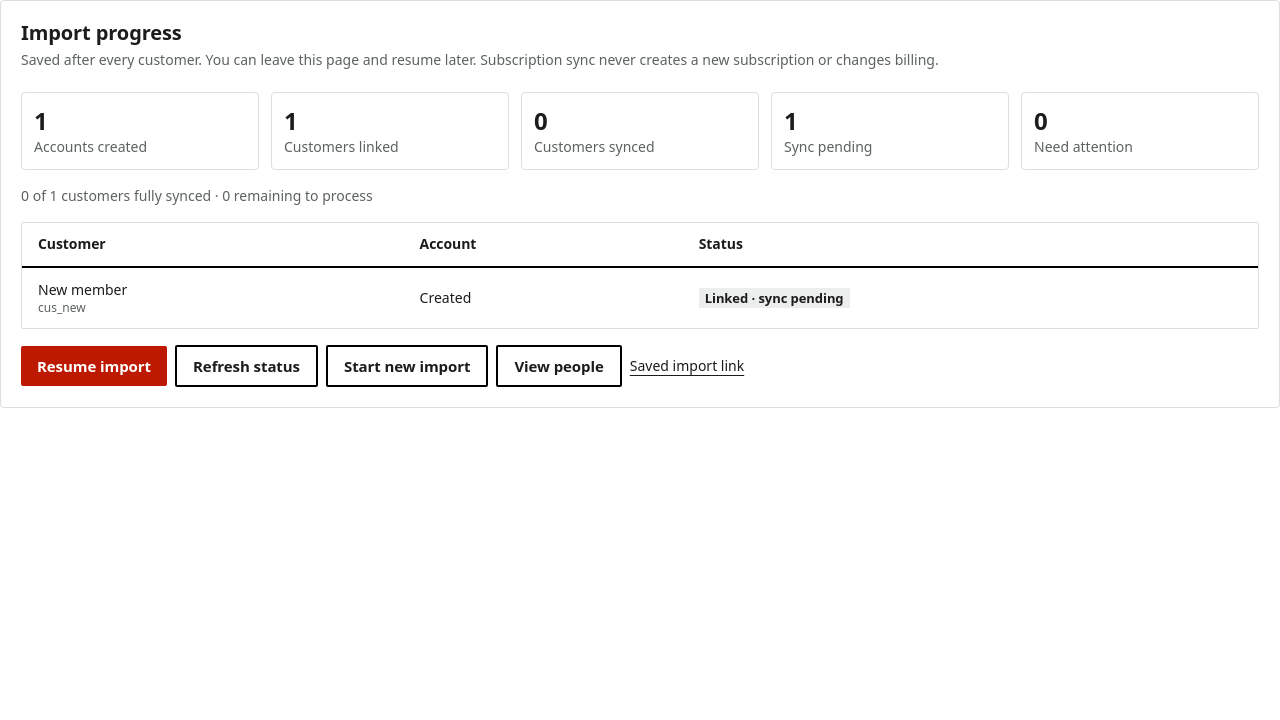
it: resumes an existing import without resubmitting its selection or claiming pending sync is complete
The image size is (1280, 720).
Check: the text "Import complete" is not shown
Check: the text "Linked · sync pending" is shown, box [699,288,850,308]
Click the button "Refresh status": click(246, 366) [175,345,318,387]
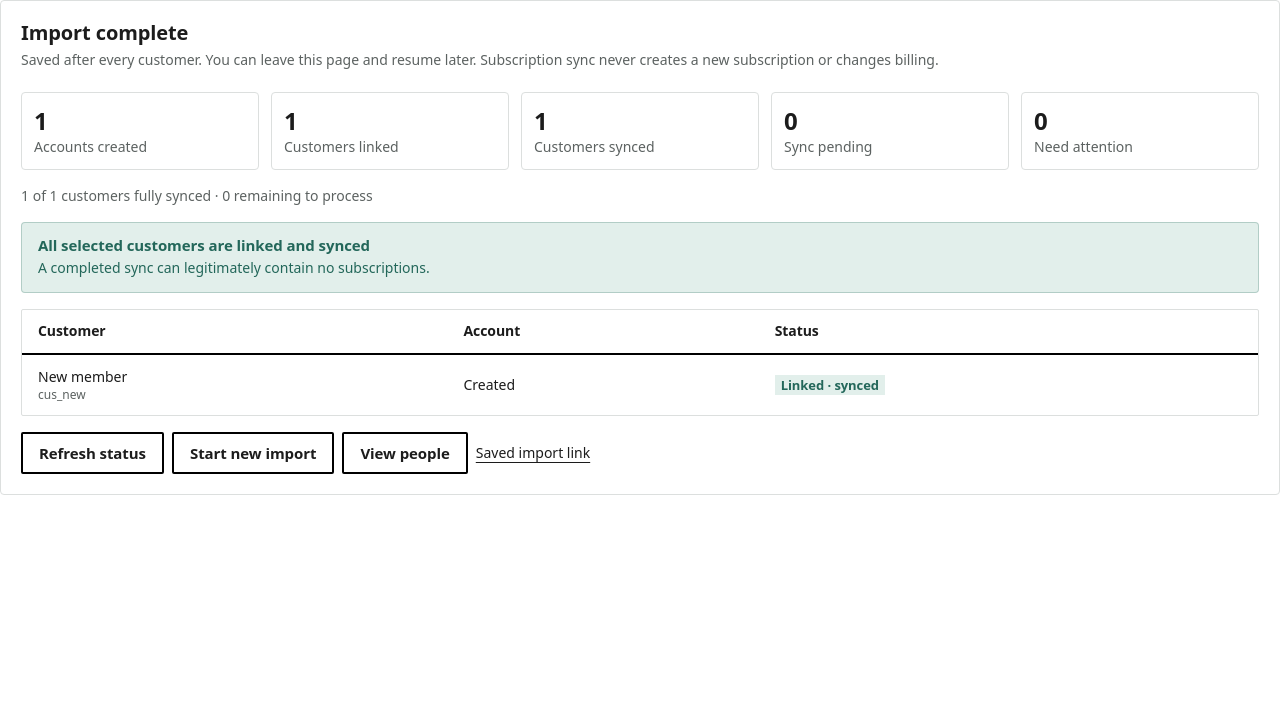
Check: the text "Import complete" is shown, box [21,19,188,46]
